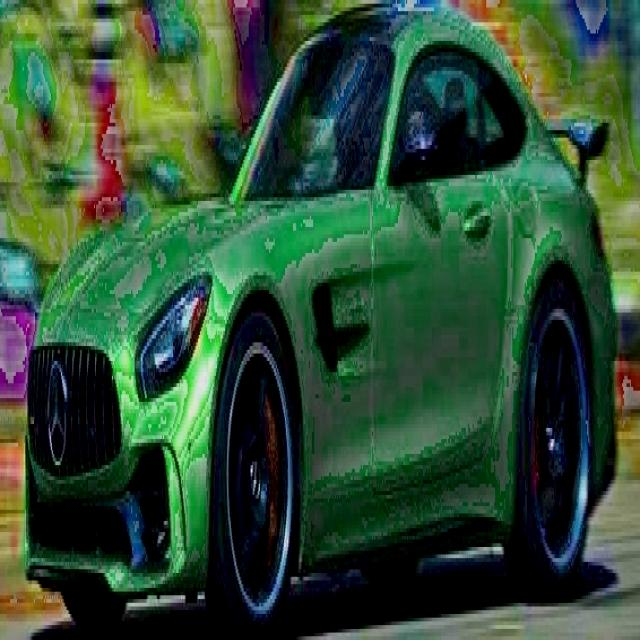green: (25, 7, 620, 640)
